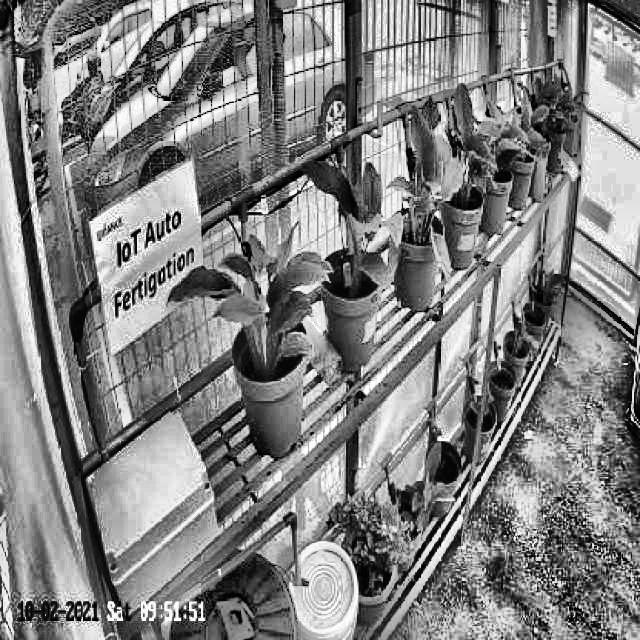plants: (171, 220, 332, 369), (304, 147, 406, 296), (389, 89, 462, 286), (430, 81, 495, 216)
